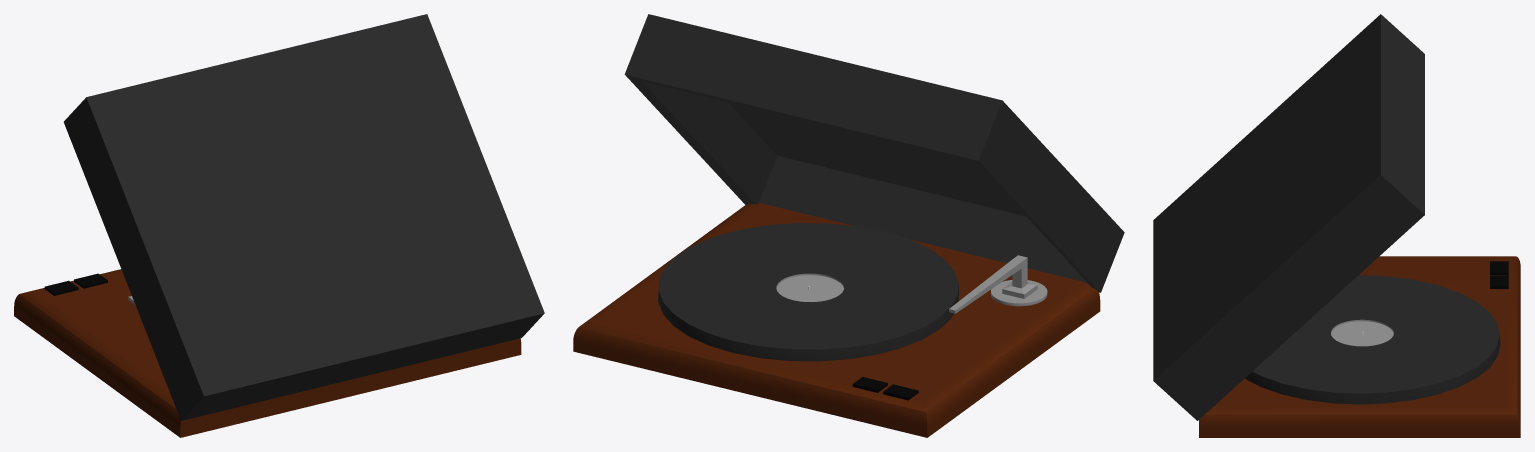
The model's file is Record_Player.FBX.
The picture shows the model from 3 angles, left to right: view 1: azimuth 30°, elevation 25°; view 2: azimuth 150°, elevation 25°; view 3: azimuth 270°, elevation 25°; orthographic projection. The views are drawn at different scales.
Visible parts, largest first — view 1: Record_Lip, Record_Base; view 2: Record_Lip, Record_Base, Sphere001, Record, Sphere003; view 3: Record_Lip, Sphere001, Record_Base.
Part boxes in pixels (left/top/right/bottom): Record_Lip: left=63, top=14, right=544, bottom=420; Record_Base: left=14, top=269, right=521, bottom=437; Record_Lip: left=624, top=14, right=1124, bottom=292; Record_Base: left=573, top=203, right=1100, bottom=437; Sphere001: left=658, top=223, right=958, bottom=361; Record: left=949, top=255, right=1037, bottom=313; Sphere003: left=990, top=280, right=1047, bottom=306; Record_Lip: left=1153, top=14, right=1424, bottom=420; Sphere001: left=1245, top=275, right=1500, bottom=404; Record_Base: left=1199, top=256, right=1520, bottom=437.
Size of the model in its own units: 22.24 by 16.96 by 21.46.
